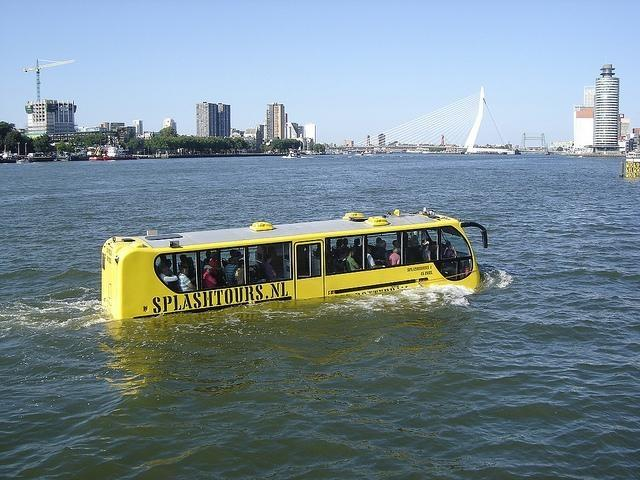bus: (101, 206, 492, 328)
